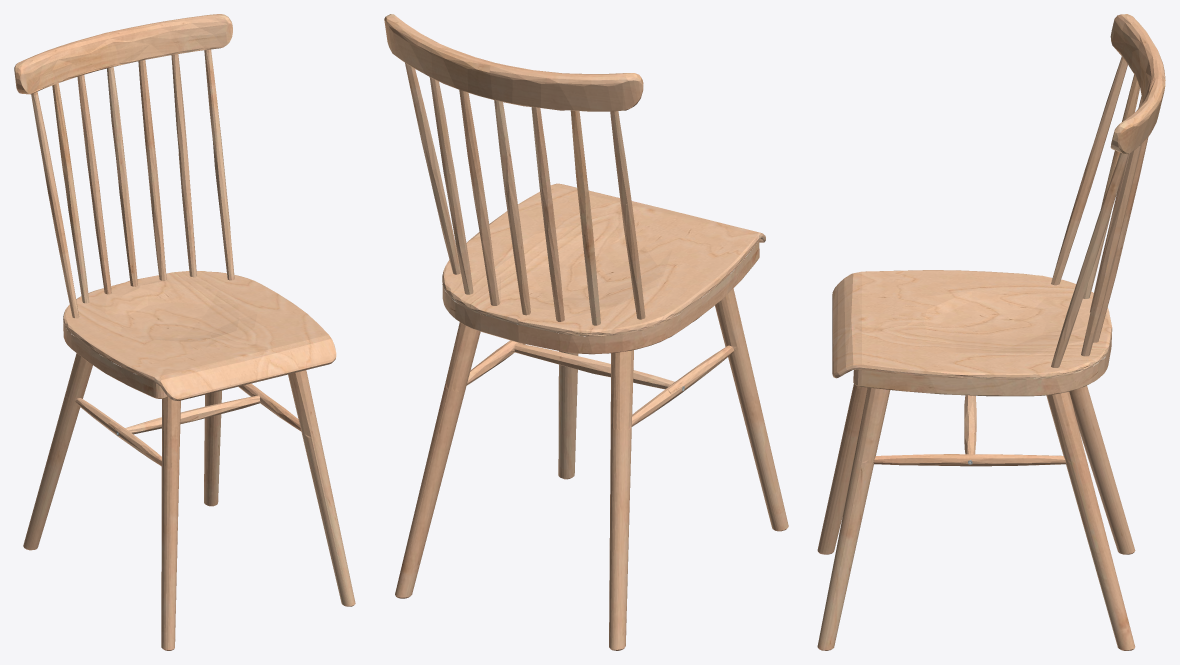
3 renders of one model, left to right at view 1: azimuth 30°, elevation 25°; view 2: azimuth 150°, elevation 25°; view 3: azimuth 270°, elevation 25°, orthographic. The views are drawn at different scales.
Parts seen in each view (by area): view 1: ASY_ART_90606820_S01_NV01_NODE_ID_f9465405-1538-4ffb-ab2b-6e; view 2: ASY_ART_90606820_S01_NV01_NODE_ID_f9465405-1538-4ffb-ab2b-6e; view 3: ASY_ART_90606820_S01_NV01_NODE_ID_f9465405-1538-4ffb-ab2b-6e.
Part boxes in pixels (x1,y1,x2,y2): ASY_ART_90606820_S01_NV01_NODE_ID_f9465405-1538-4ffb-ab2b-6e: [14, 14, 355, 650]; ASY_ART_90606820_S01_NV01_NODE_ID_f9465405-1538-4ffb-ab2b-6e: [384, 14, 788, 650]; ASY_ART_90606820_S01_NV01_NODE_ID_f9465405-1538-4ffb-ab2b-6e: [817, 14, 1165, 650].
Size of the model in its own units: 0.4 by 0.86 by 0.51.
1 material, 1 textured.
